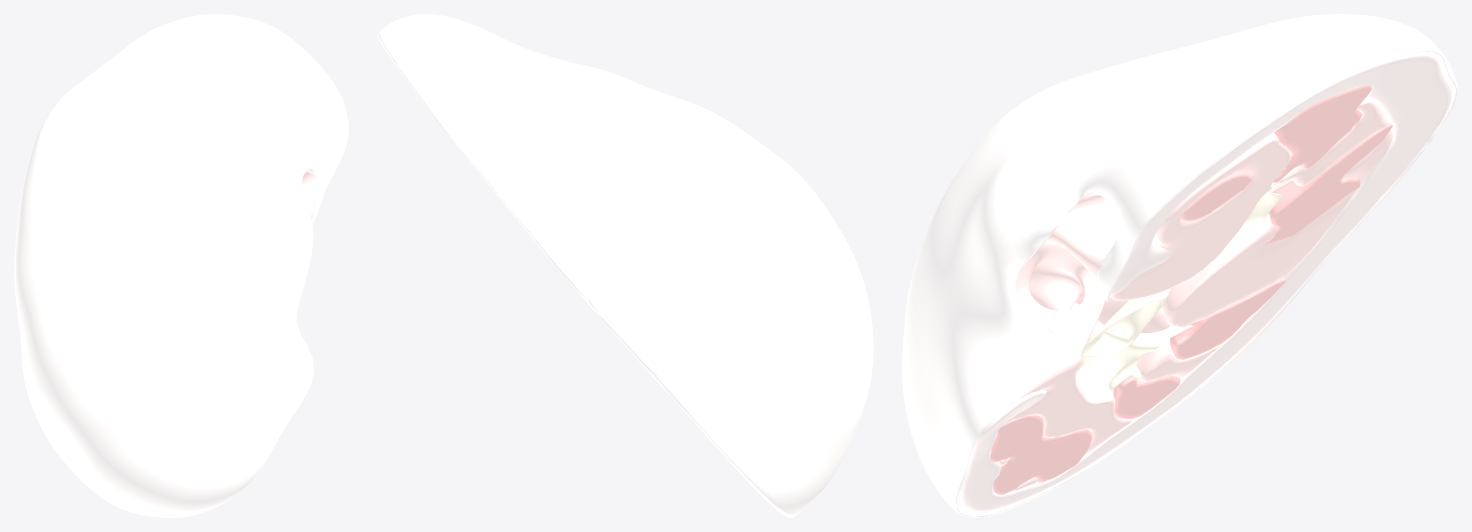
The model's file is VHF_Kidney_R_Bisected_Anterior.glb.
The picture shows the model from 3 angles, left to right: view 1: azimuth 30°, elevation 25°; view 2: azimuth 150°, elevation 25°; view 3: azimuth 270°, elevation 25°; orthographic projection. The views are drawn at different scales.
Parts seen in each view (by area): view 1: VHF_Kidney_R_Capsule_Anterior, VHF_Kidney_R_RenalColumns_Anterior; view 2: VHF_Kidney_R_Capsule_Anterior; view 3: VHF_Kidney_R_Capsule_Anterior, VHF_Kidney_R_RenalColumns_Anterior, VHF_Kidney_R_OuterCortex_Anterior, VHF_Kidney_R_Pyramids_Anterior, VHF_Kidney_R_Calyses_Anterior.
Part boxes in pixels (x1=…): VHF_Kidney_R_Capsule_Anterior: x1=14, y1=14, x2=348, y2=517; VHF_Kidney_R_RenalColumns_Anterior: x1=302, y1=171, x2=316, y2=218; VHF_Kidney_R_Capsule_Anterior: x1=377, y1=14, x2=873, y2=517; VHF_Kidney_R_Capsule_Anterior: x1=902, y1=14, x2=1457, y2=517; VHF_Kidney_R_RenalColumns_Anterior: x1=999, y1=96, x2=1392, y2=491; VHF_Kidney_R_OuterCortex_Anterior: x1=958, y1=52, x2=1451, y2=513; VHF_Kidney_R_Pyramids_Anterior: x1=990, y1=85, x2=1393, y2=494; VHF_Kidney_R_Calyses_Anterior: x1=1070, y1=190, x2=1281, y2=392.
Size of the model in its own units: 0.8791 by 1 by 0.8443.
